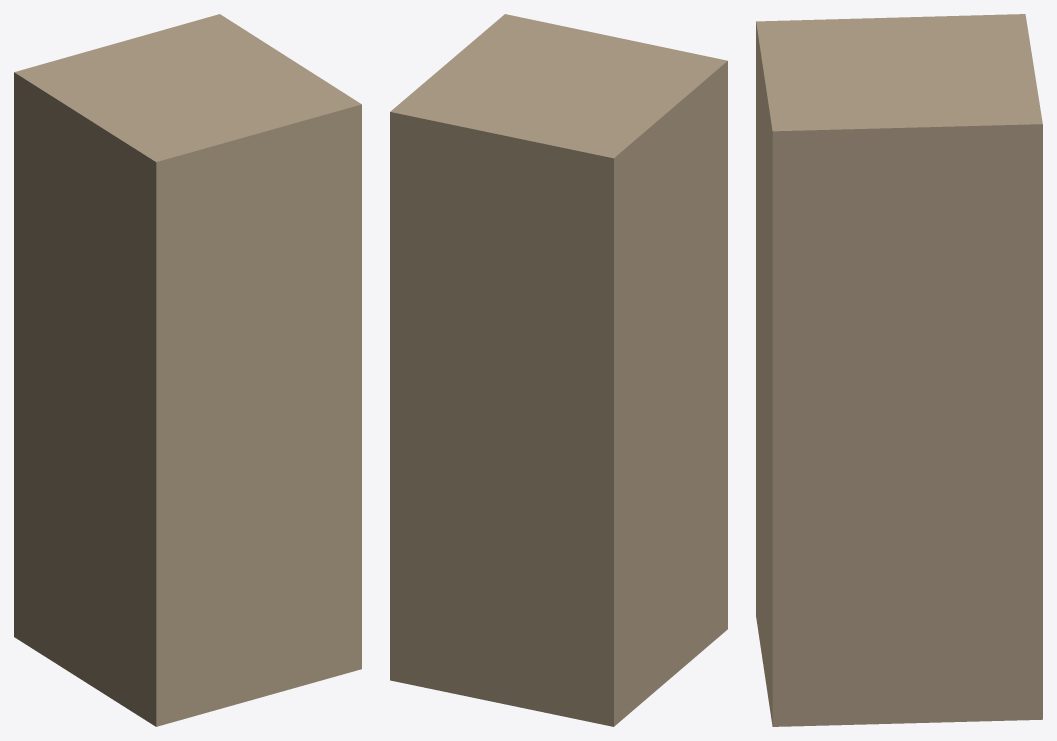
File: bld_101572374.dae
3 views of the same model, side by side, from view 1: azimuth 30°, elevation 25°; view 2: azimuth 150°, elevation 25°; view 3: azimuth 270°, elevation 25° (orthographic). The views are drawn at different scales.
Parts seen in each view (by area): view 1: bld_101572374; view 2: bld_101572374; view 3: bld_101572374.
Boxes of the visible parts, bbox=[...] form: bld_101572374: bbox=[14, 14, 361, 726]; bld_101572374: bbox=[390, 14, 727, 726]; bld_101572374: bbox=[756, 14, 1042, 726].
Bounding box in the file's own units: 3.38 × 3.49 × 8.
